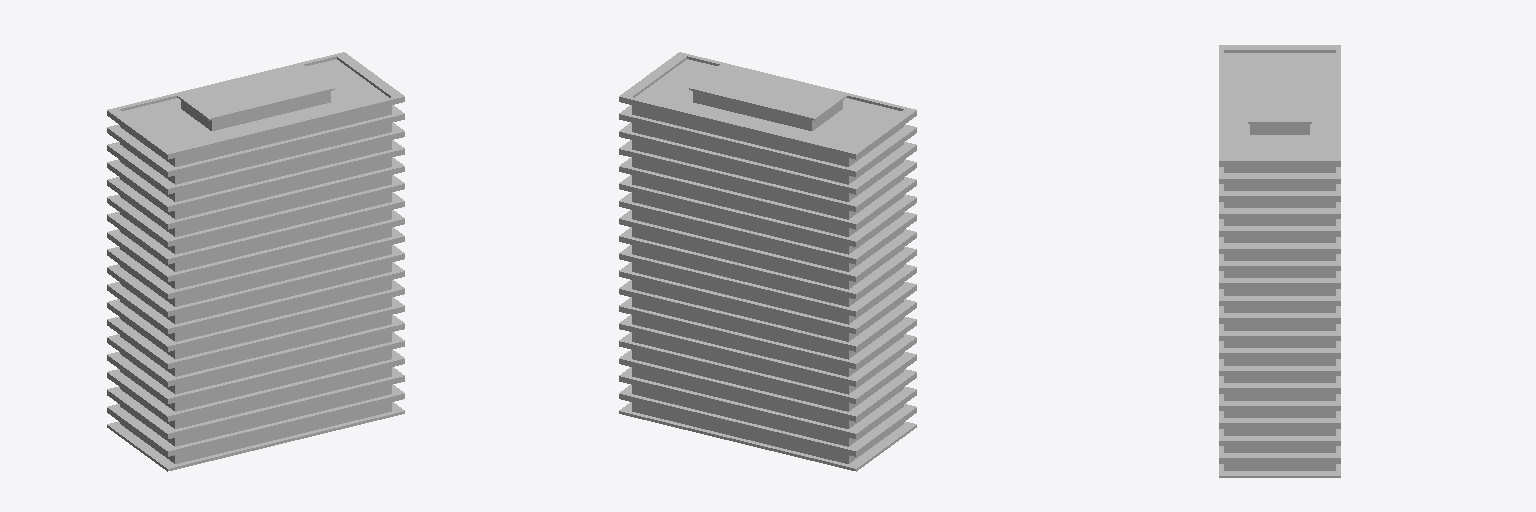
The picture shows the model from 3 angles: view 1: azimuth 30°, elevation 25°; view 2: azimuth 150°, elevation 25°; view 3: azimuth 270°, elevation 25°; orthographic projection.
Visible parts, largest first — view 1: Highrise_12; view 2: Highrise_12; view 3: Highrise_12.
Boxes of the visible parts, <box> form: Highrise_12: <box>107,52,404,471</box>; Highrise_12: <box>619,52,916,471</box>; Highrise_12: <box>1219,45,1340,477</box>.
Size of the model in its own units: 337 by 445 by 150.